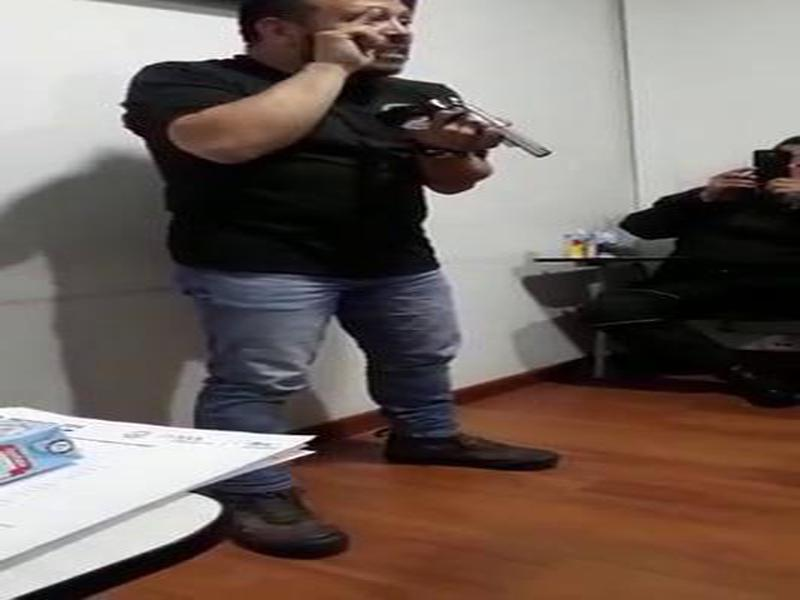Revolver: (378, 83, 567, 192)
